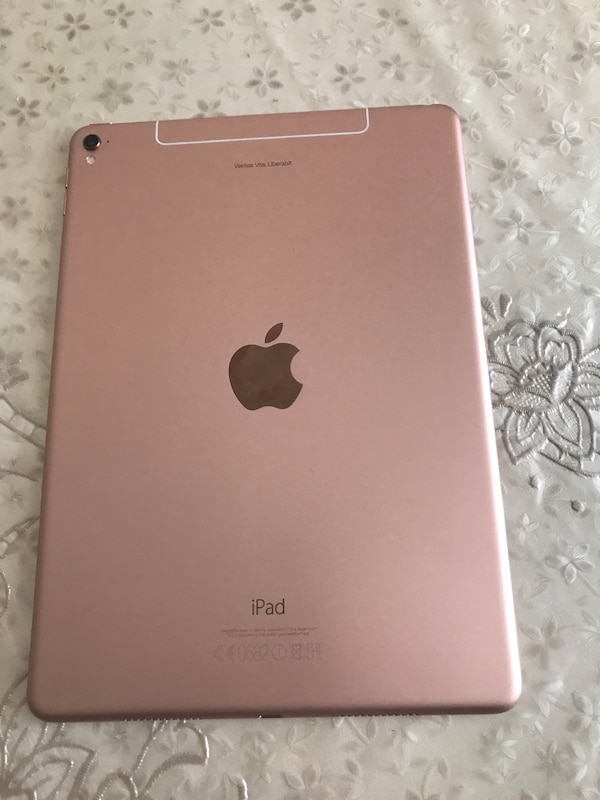apple: (205, 302, 341, 475)
